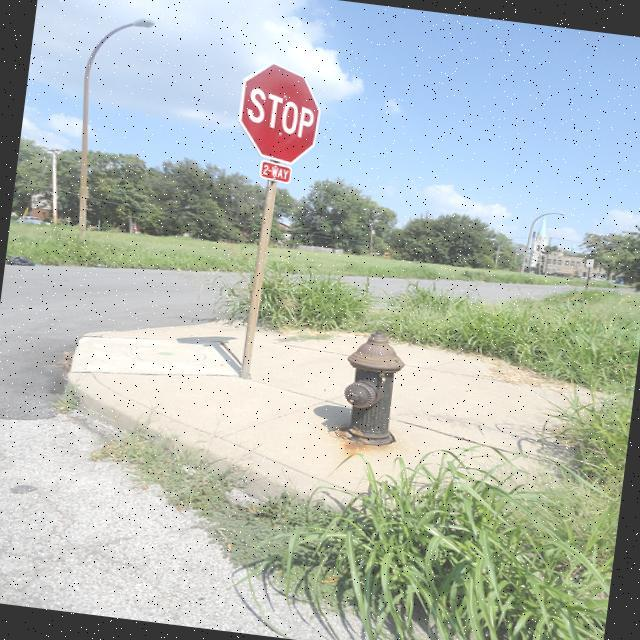fire_hydrant: (342, 331, 410, 448)
